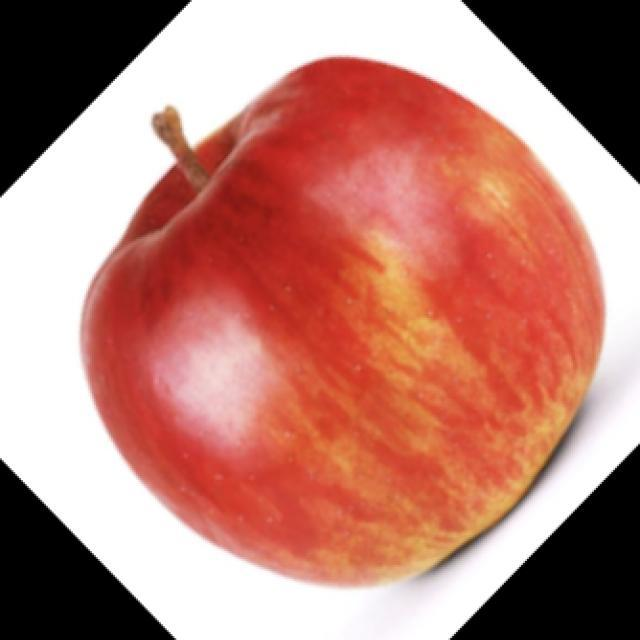Fresh Apple: (94, 52, 594, 573)
